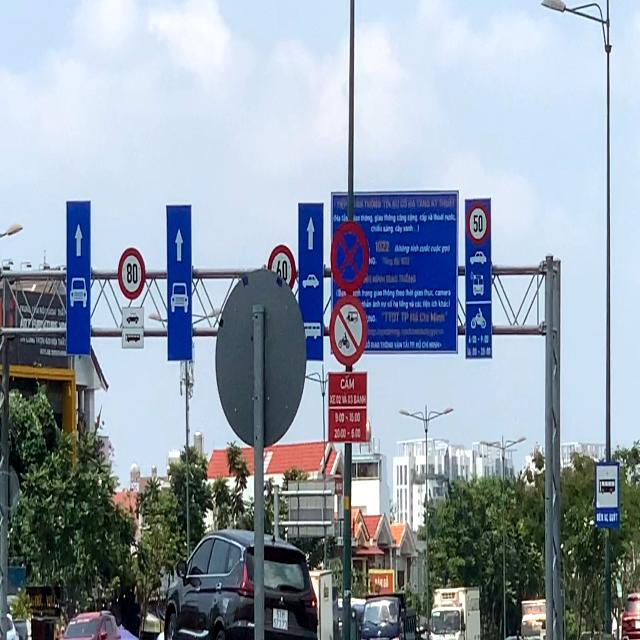P.127: (117, 247, 146, 300), (267, 244, 296, 295), (466, 202, 490, 246)
P.130: (330, 221, 369, 293)
R.434: (594, 461, 620, 529)
